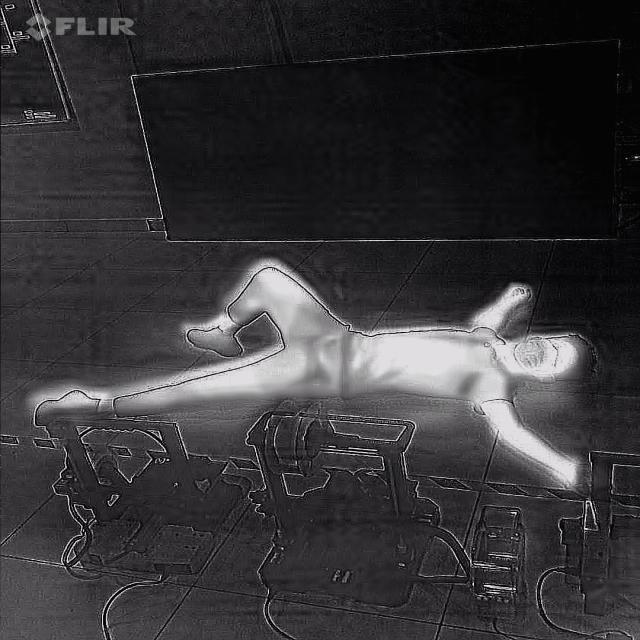Victim: (20, 260, 611, 500)
